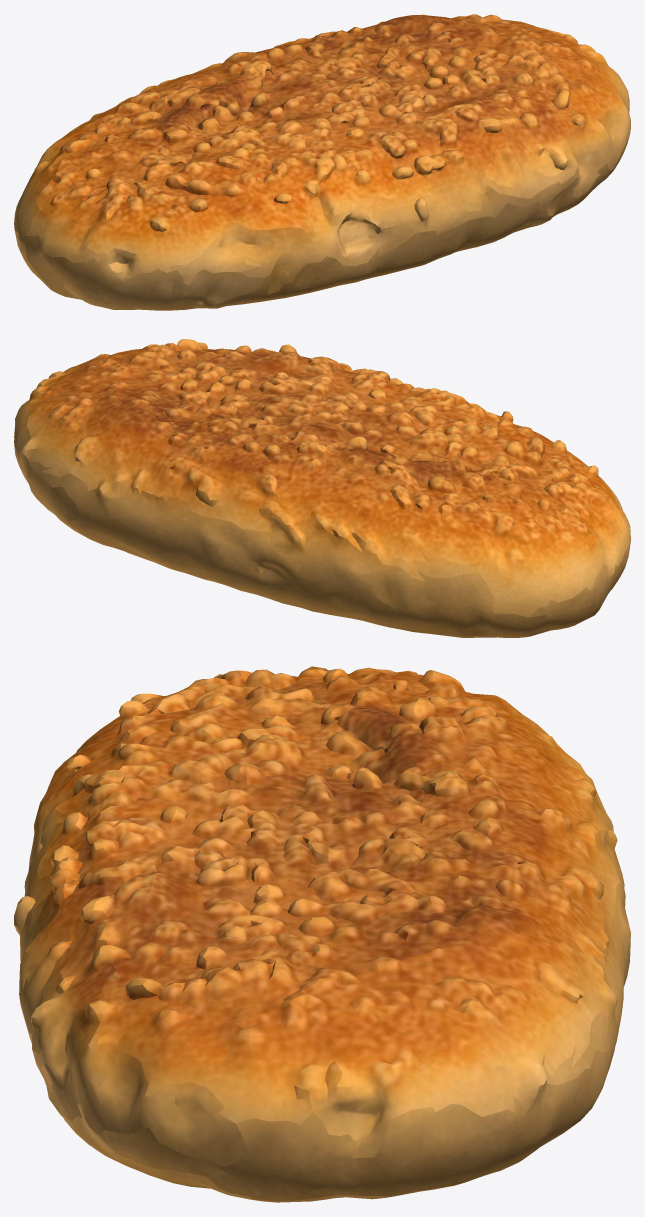
Rendered from dabing.glb.
3 renders of one model, top to bottom at view 1: azimuth 30°, elevation 25°; view 2: azimuth 150°, elevation 25°; view 3: azimuth 270°, elevation 25°, orthographic. The views are drawn at different scales.
Visible parts, largest first — view 1: world; view 2: world; view 3: world.
Boxes of the visible parts, <box> form: world: <box>14,14,630,310</box>; world: <box>14,339,630,637</box>; world: <box>14,666,630,1202</box>.
Bounding box in the file's own units: 0.12 × 0.0316 × 0.0668.
Materials: 1 (1 with a texture image).
